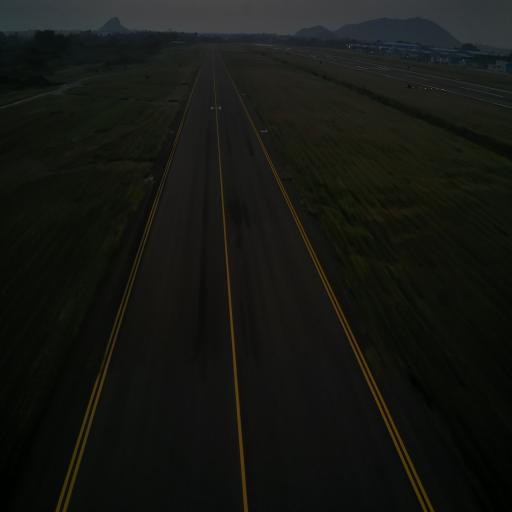on: (149, 170, 153, 179), (284, 167, 287, 177)
